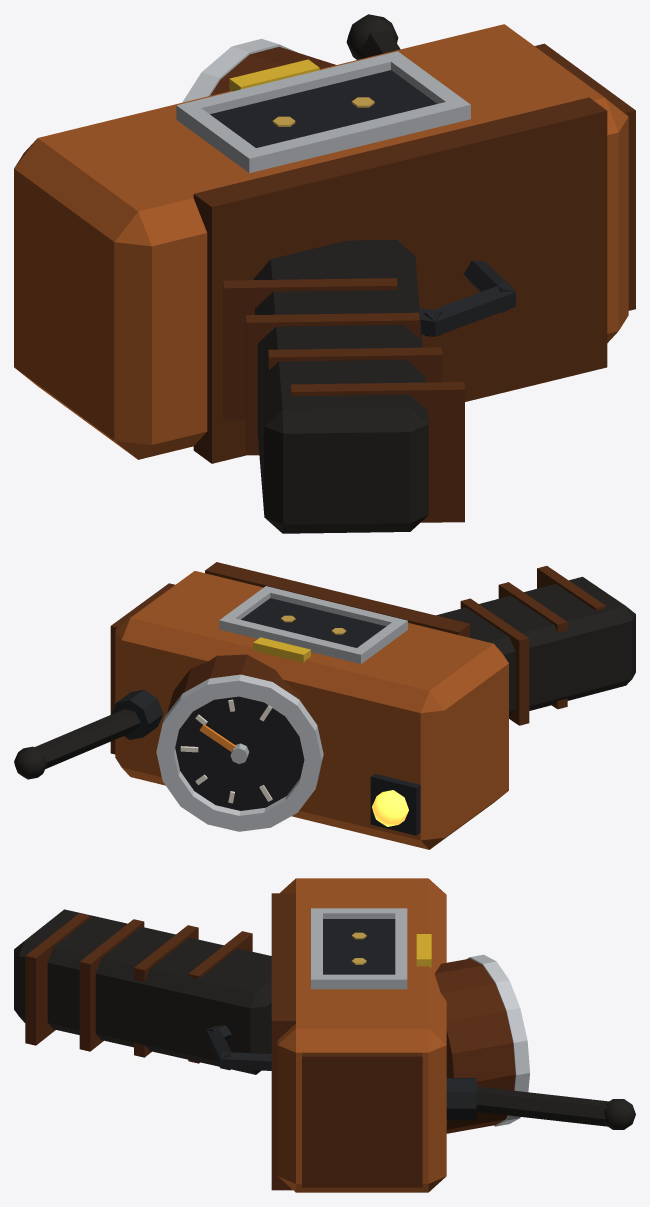
The model's file is receiver_colossus.glb.
3 renders of one model, top to bottom at view 1: azimuth 30°, elevation 25°; view 2: azimuth 150°, elevation 25°; view 3: azimuth 270°, elevation 25°, orthographic. The views are drawn at different scales.
Visible parts, largest first — view 1: receiver_colossus; view 2: receiver_colossus; view 3: receiver_colossus.
Part boxes in pixels (box(x1,y1,x2,y2)): receiver_colossus: box(14, 14, 635, 533); receiver_colossus: box(14, 562, 635, 849); receiver_colossus: box(14, 878, 635, 1192).
Bounding box in the file's own units: 0.1384 × 0.0645 × 0.2063.
